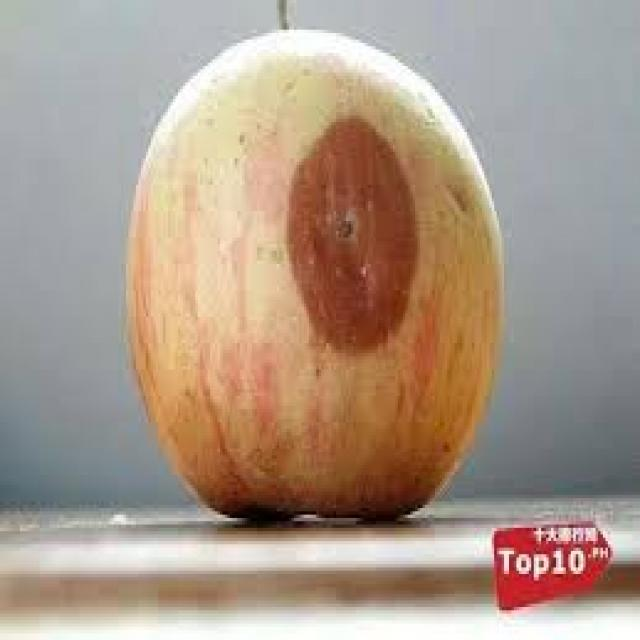organic waste: (126, 0, 499, 521)
